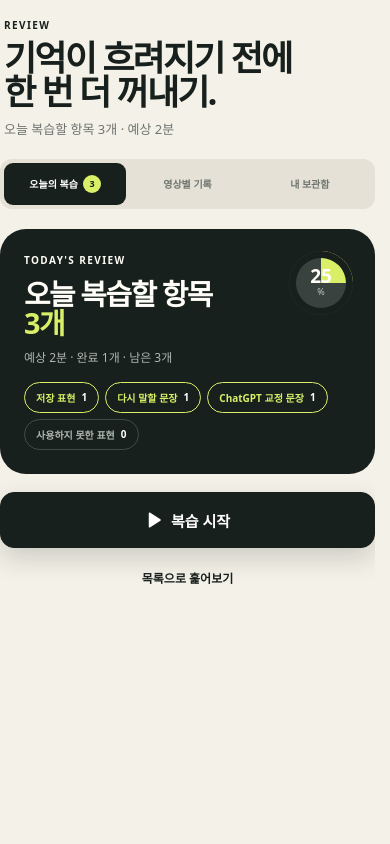
Scenario: Editing a saved item › saves an edited meaning and note as a per-user override
Expected: the button "복습 시작" is shown, x1=0 y1=492 x2=375 y2=548
Click the tab "내 보관함" at (310, 184), box x1=249 y1=163 x2=371 y2=205
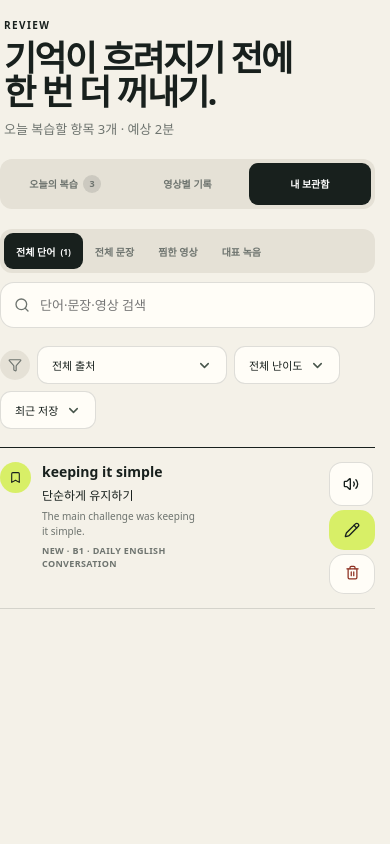
Click the button named "keeping it simple 수정" at (352, 530), box x1=329 y1=510 x2=375 y2=550
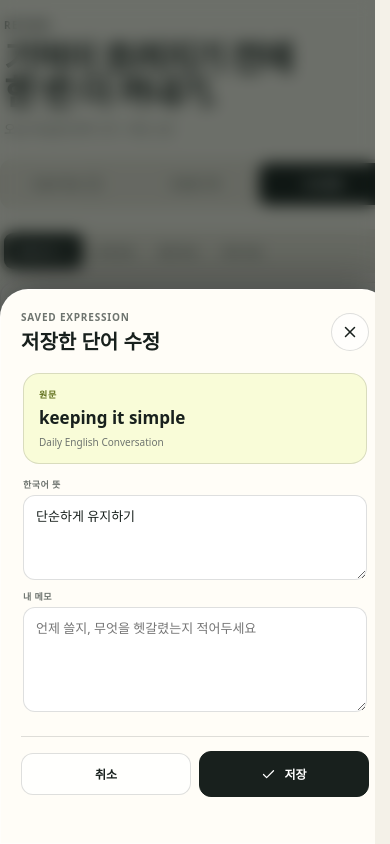
Replace the text in the text box named "keeping it simple 한국어 뜻" with "일을 단순하게 가져가기" at (195, 538), box x1=23 y1=495 x2=367 y2=580
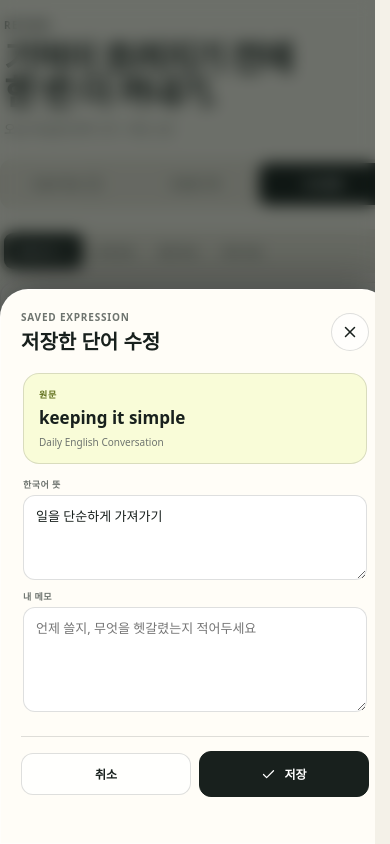
Type "회의에서 써보기" into the text box named "keeping it simple 내 메모" at (195, 659), box x1=23 y1=607 x2=367 y2=712
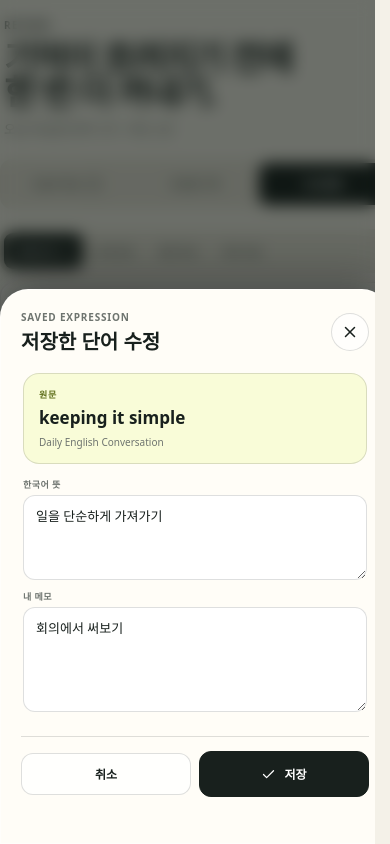
Click the button "저장" at (284, 774), box x1=199 y1=751 x2=369 y2=797
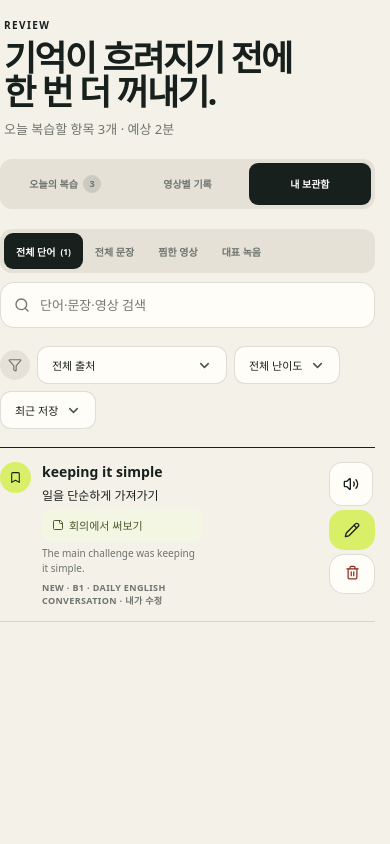
Now the text "일을 단순하게 가져가기" is shown, box x1=42 y1=486 x2=159 y2=503
Now the text "회의에서 써보기" is shown, box x1=42 y1=509 x2=203 y2=542
Now the text "NEW · B1 · Daily English Conversation · 내가 수정" is shown, box x1=42 y1=581 x2=166 y2=607
